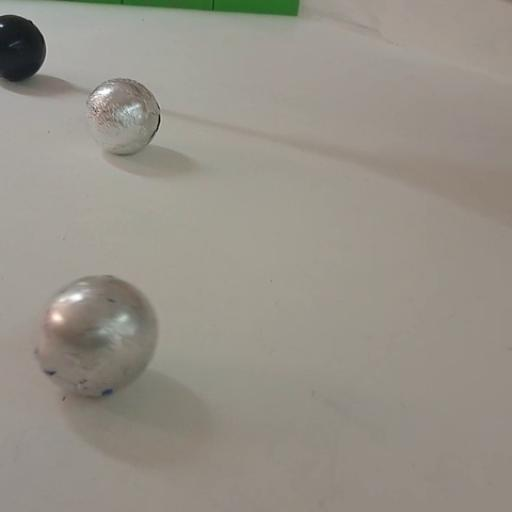alive: (33, 272, 162, 400), (84, 78, 161, 156)
dead: (0, 12, 48, 83)
